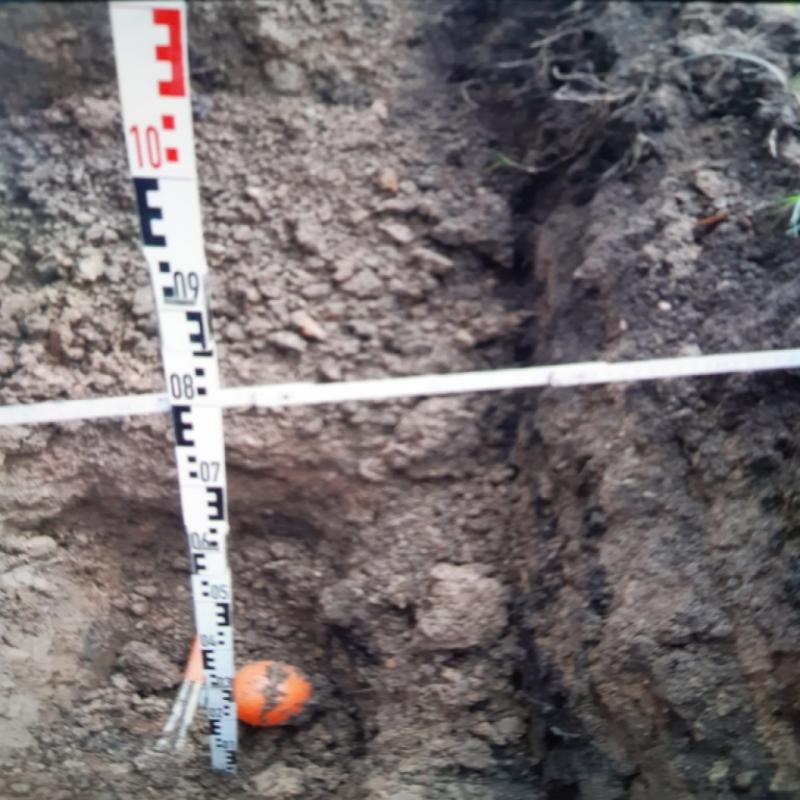Kugelmarker: (234, 659, 308, 727)
Orang-Speednetrohrchen: (163, 637, 205, 740)
